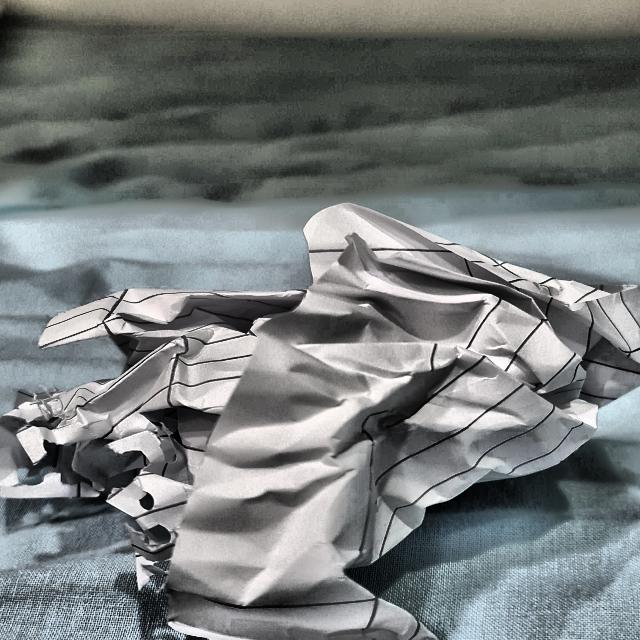paper: (11, 195, 640, 640)
